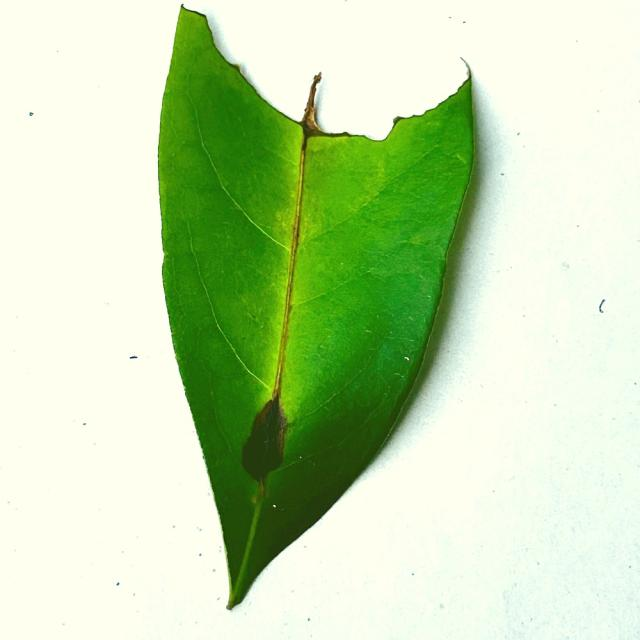Deficiency Leaf: (183, 0, 468, 140)
Lychee: (159, 9, 474, 606)
